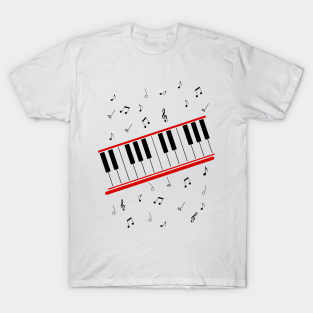design: (96, 78, 217, 230)
